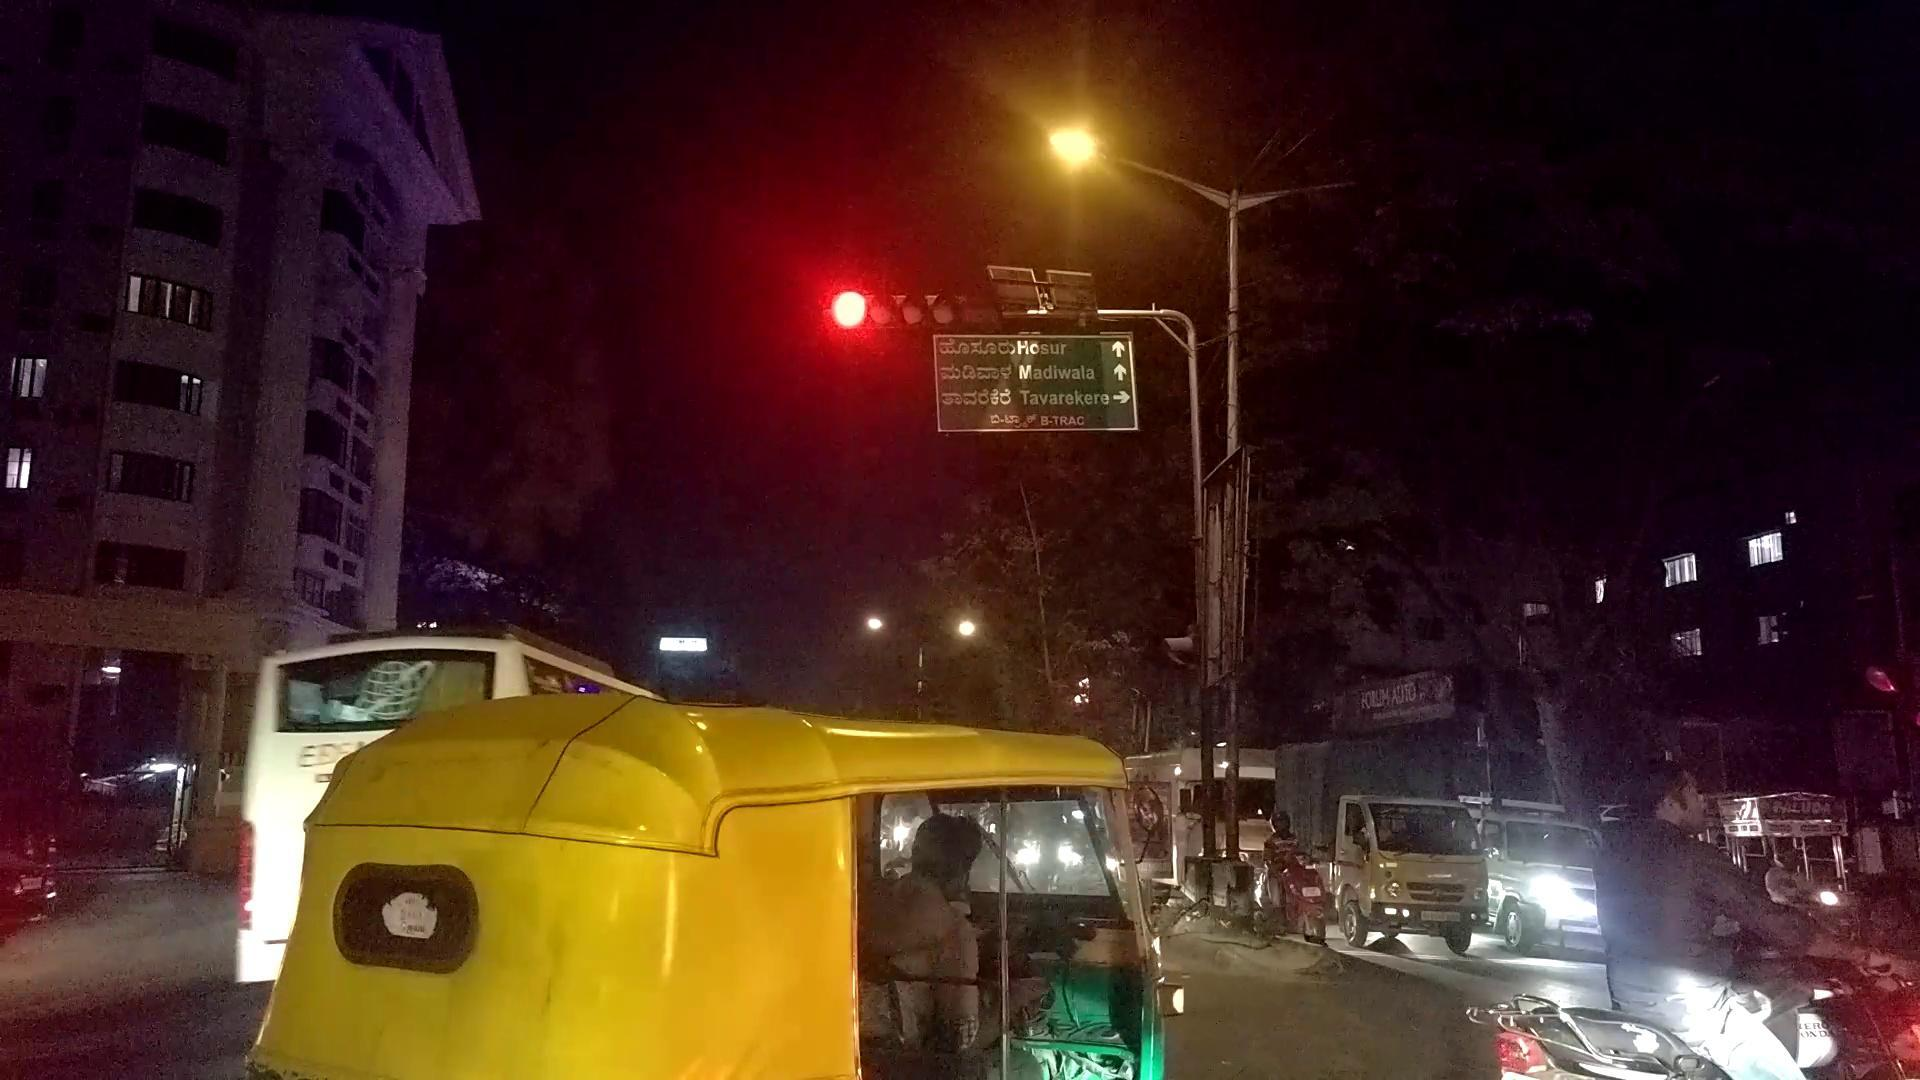on: (960, 12, 1295, 331)
